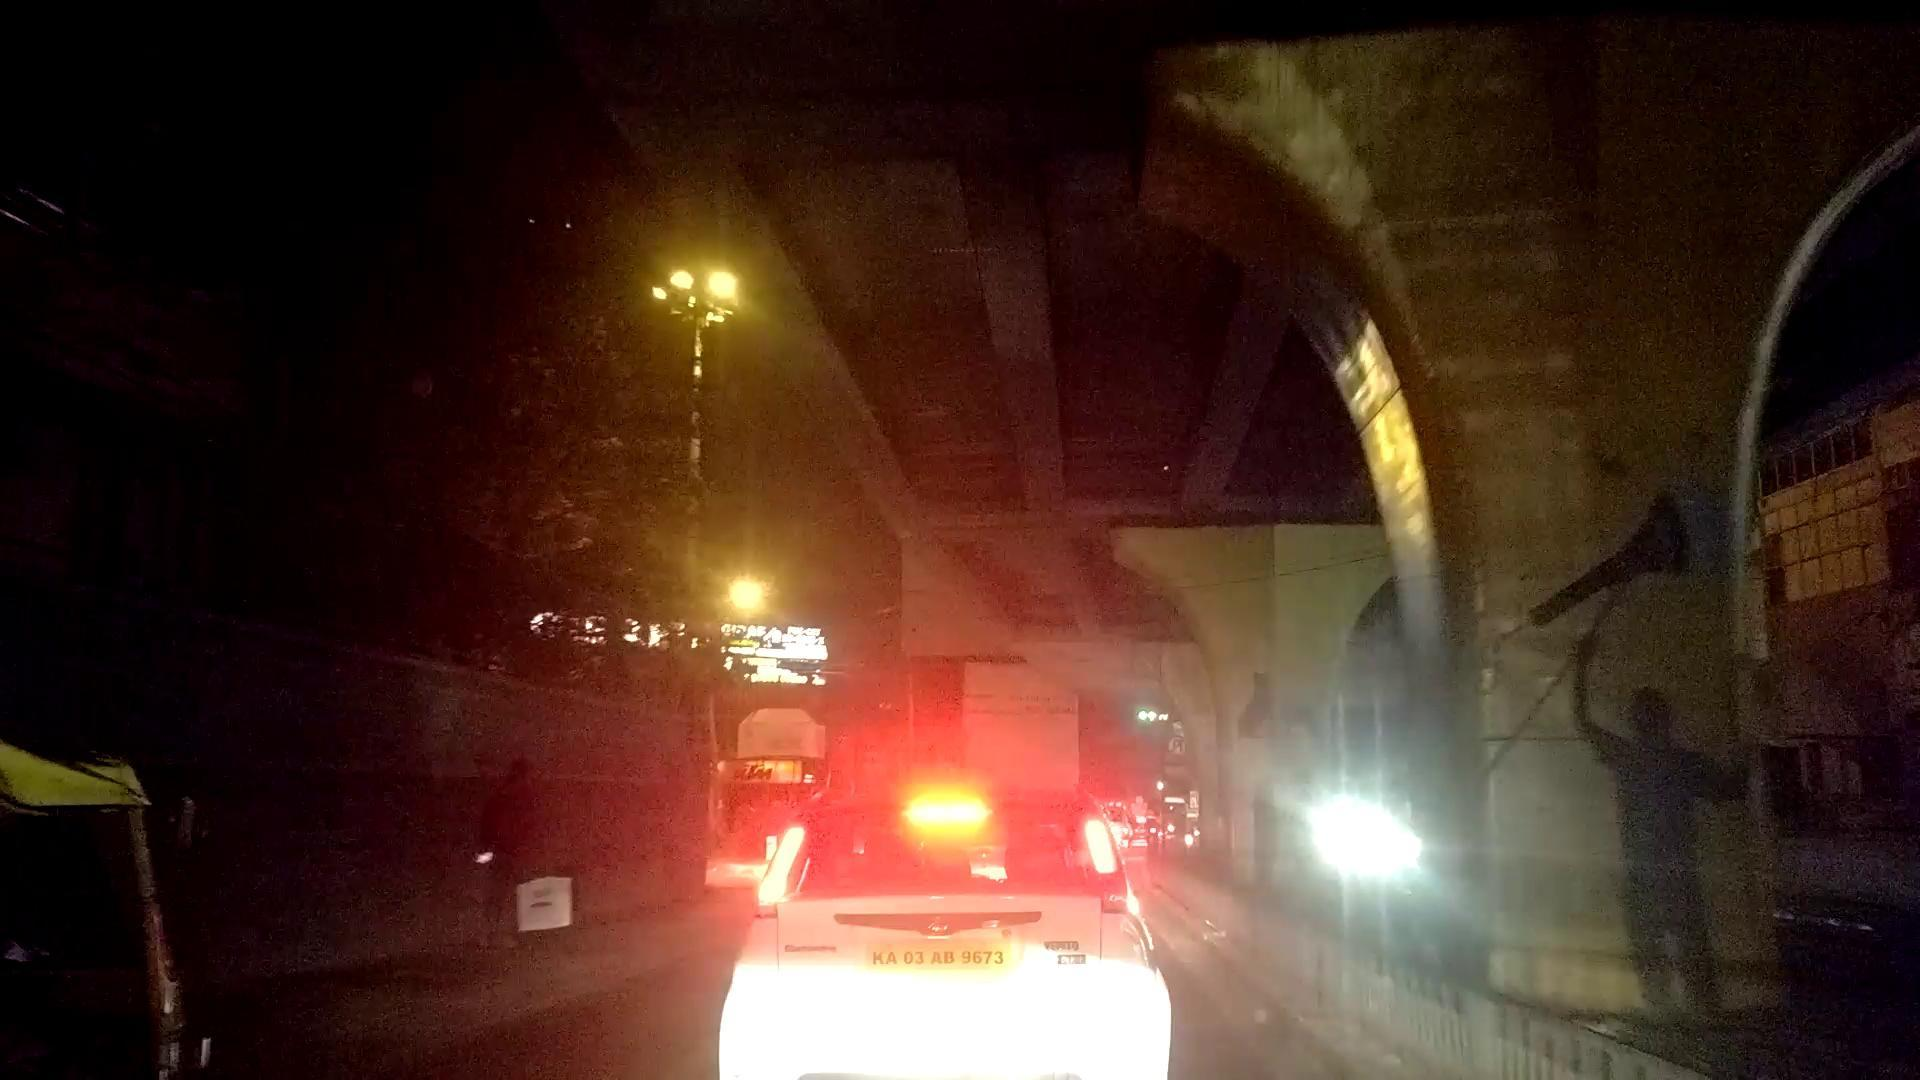on: (560, 171, 831, 498)
